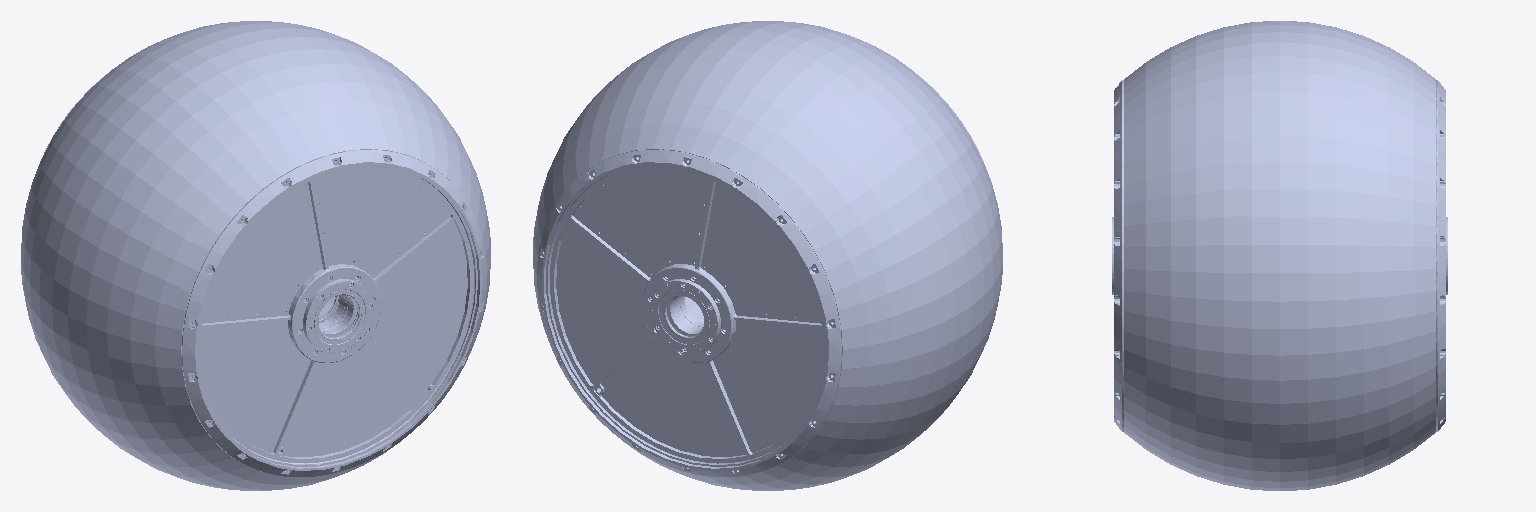
robot.urdf — ball:
<?xml version="1.0" encoding="utf-8"?>
<!-- This URDF was automatically created by SolidWorks to URDF Exporter! Originally created by [author] ([email redacted]) 
     Commit Version: 1.6.0-1-g15f4949  Build Version: 1.6.7594.29634
     For more information, please see http://wiki.ros.org/sw_urdf_exporter -->
<robot
  name="ball">
  <link
    name="base_link">
    <inertial>
      <origin
        xyz="0.0037683 0.023787 -0.0082655"
        rpy="0 0 0" />
      <mass
        value="13.521" />
      <inertia
        ixx="0.11723"
        ixy="2.1927E-05"
        ixz="-3.6693E-05"
        iyy="0.098929"
        iyz="0.00048745"
        izz="0.10476" />
    </inertial>
    <visual>
      <origin
        xyz="0 0 0"
        rpy="0 0 0" />
      <geometry>
        <mesh
          filename="package://Rotunbot/meshes/base_link.STL" />
      </geometry>
      <material
        name="">
        <color
          rgba="0.79216 0.81961 0.93333 1" />
      </material>
    </visual>
    <collision>
      <origin
        xyz="0 0 0"
        rpy="0 0 0" />
      <geometry>
        <cylinder length="0.005" radius="0.02"/>
      </geometry>
    </collision>
  </link>
  <link
    name="link1">
    <inertial>
      <origin
        xyz="-0.0013958 -0.00011348 -0.00064553"
        rpy="0 0 0" />
      <mass
        value="9.8965" />
      <inertia
        ixx="0.90515"
        ixy="-3.2487E-06"
        ixz="9.3421E-07"
        iyy="0.61757"
        iyz="0.00033978"
        izz="0.61944" />
    </inertial>
    <visual>
      <origin
        xyz="0 0 0"
        rpy="0 0 0" />
      <geometry>
        <mesh
          filename="package://Rotunbot/meshes/link1.STL" />
      </geometry>
      <material
        name="">
        <color
          rgba="0.79216 0.81961 0.93333 1" />
      </material>
    </visual>
    <collision>
      <origin
        xyz="0 0 0"
        rpy="0 0 0" />
      <geometry>
        <sphere radius="0.4"/>
      </geometry>
    </collision>
  </link>
  <joint
    name="joint1"
    type="continuous">
    <origin
      xyz="0 0 0"
      rpy="0 0 0" />
    <parent
      link="base_link" />
    <child
      link="link1" />
    <axis
      xyz="1 0 0" />
    <limit
      effort="12"
      velocity="10" />
  </joint>
  <link
    name="link2">
    <inertial>
      <origin
        xyz="-0.00061655 -0.00964 -0.25497"
        rpy="0 0 0" />
      <mass
        value="6.6648" />
      <inertia
        ixx="0.056287"
        ixy="1.0364E-05"
        ixz="-5.1516E-06"
        iyy="0.026608"
        iyz="6.2124E-06"
        izz="0.068819" />
    </inertial>
    <visual>
      <origin
        xyz="0 0 0"
        rpy="0 0 0" />
      <geometry>
        <mesh
          filename="package://Rotunbot/meshes/link2.STL" />
      </geometry>
      <material
        name="">
        <color
          rgba="0.79216 0.81961 0.93333 1" />
      </material>
    </visual>
    <collision>
      <origin
        xyz="0 0 0"
        rpy="0 0 0" />
      <geometry>
        <cylinder length="0.005" radius="0.02"/>
      </geometry>
    </collision>
  </link>
  <joint
    name="joint2"
    type="revolute">
    <origin
      xyz="0 0 0"
      rpy="0 0 0" />
    <parent
      link="base_link" />
    <child
      link="link2" />
    <axis
      xyz="0 1 -0.00011905" />
    <limit
      lower="-0.5236"
      upper="0.5236"
      effort="12"
      velocity="10" />
  </joint>
</robot>

--- What the picture shows (computed from the rendered views, not written in the file) ---
The picture shows the robot from 3 angles, left to right: view 1: azimuth 30°, elevation 25°; view 2: azimuth 150°, elevation 25°; view 3: azimuth 270°, elevation 25°; orthographic projection.
Model ball with 3 links and 2 joints (1 revolute, 1 continuous), rooted at base_link, posed every joint at zero.
Visible links, largest first — view 1: link1; view 2: link1; view 3: link1.
Boxes of the visible links, x1,y1,x2,y2 form: link1: [21, 21, 490, 490]; link1: [533, 21, 1002, 490]; link1: [1112, 21, 1447, 490].
Size in the robot's own frame: 0.8 by 0.57 by 0.8 metres.
Meshes: 3 distinct files referenced, 1 mesh visuals loaded (1 binary STL); not drawn: 2 (reference not matched to a file when rendering).